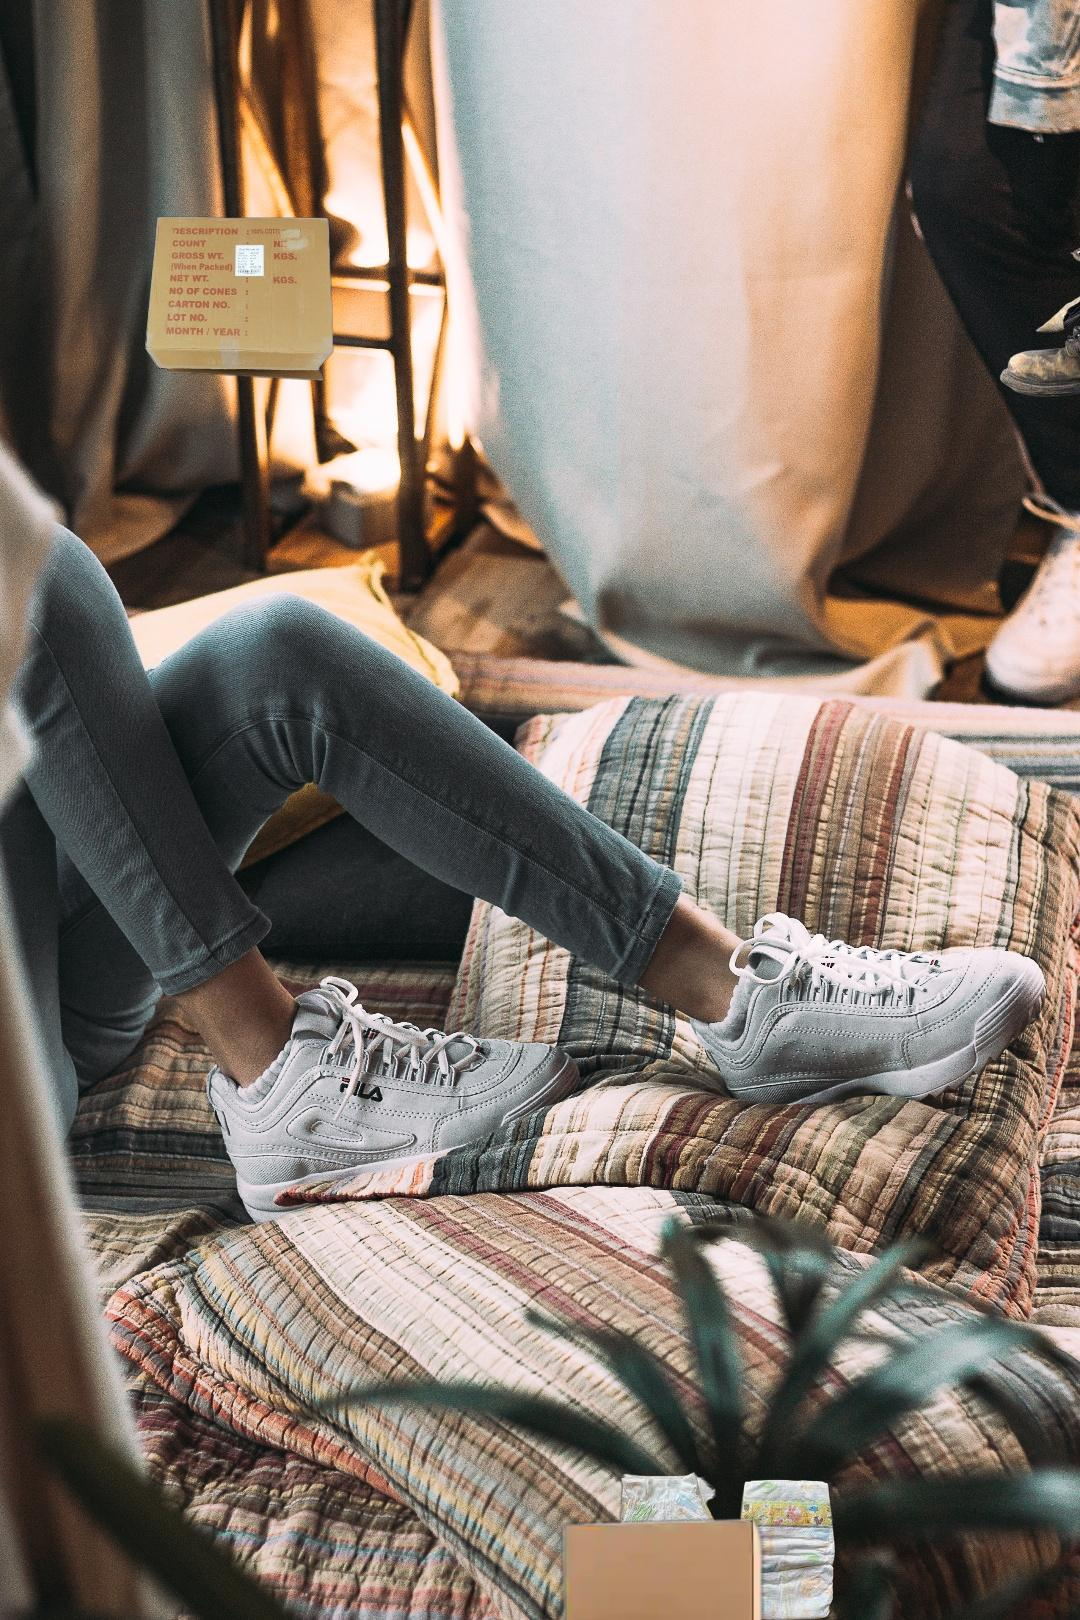shoes: (997, 243, 1080, 432)
trash: (611, 1469, 838, 1620)
trashbox-cardboard: (418, 1512, 871, 1620), (142, 215, 336, 385), (1078, 614, 1080, 1025)
